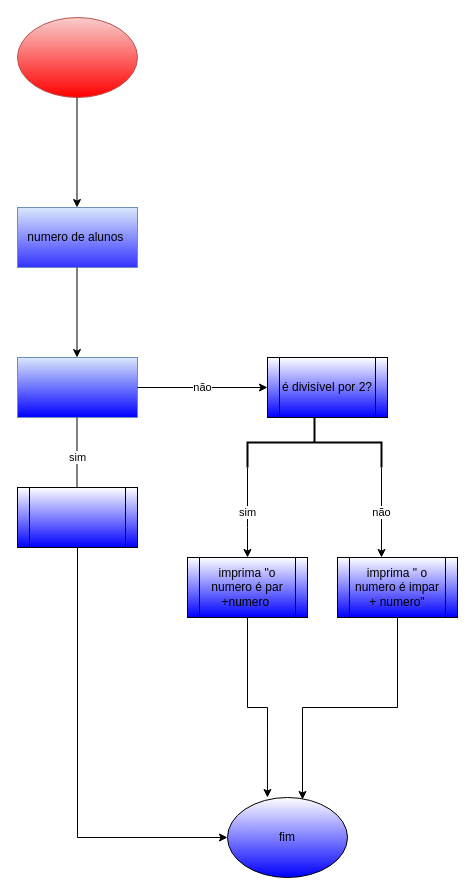
Some shapes in this 475 by 895 pixel diagram are drawn without their labels. Here are the shapes that lost their labels. From the top down, the centre of each, then its label:
point (77, 57): inicio
point (77, 387): é zero?
point (77, 517): imprima "o numero é zero"
